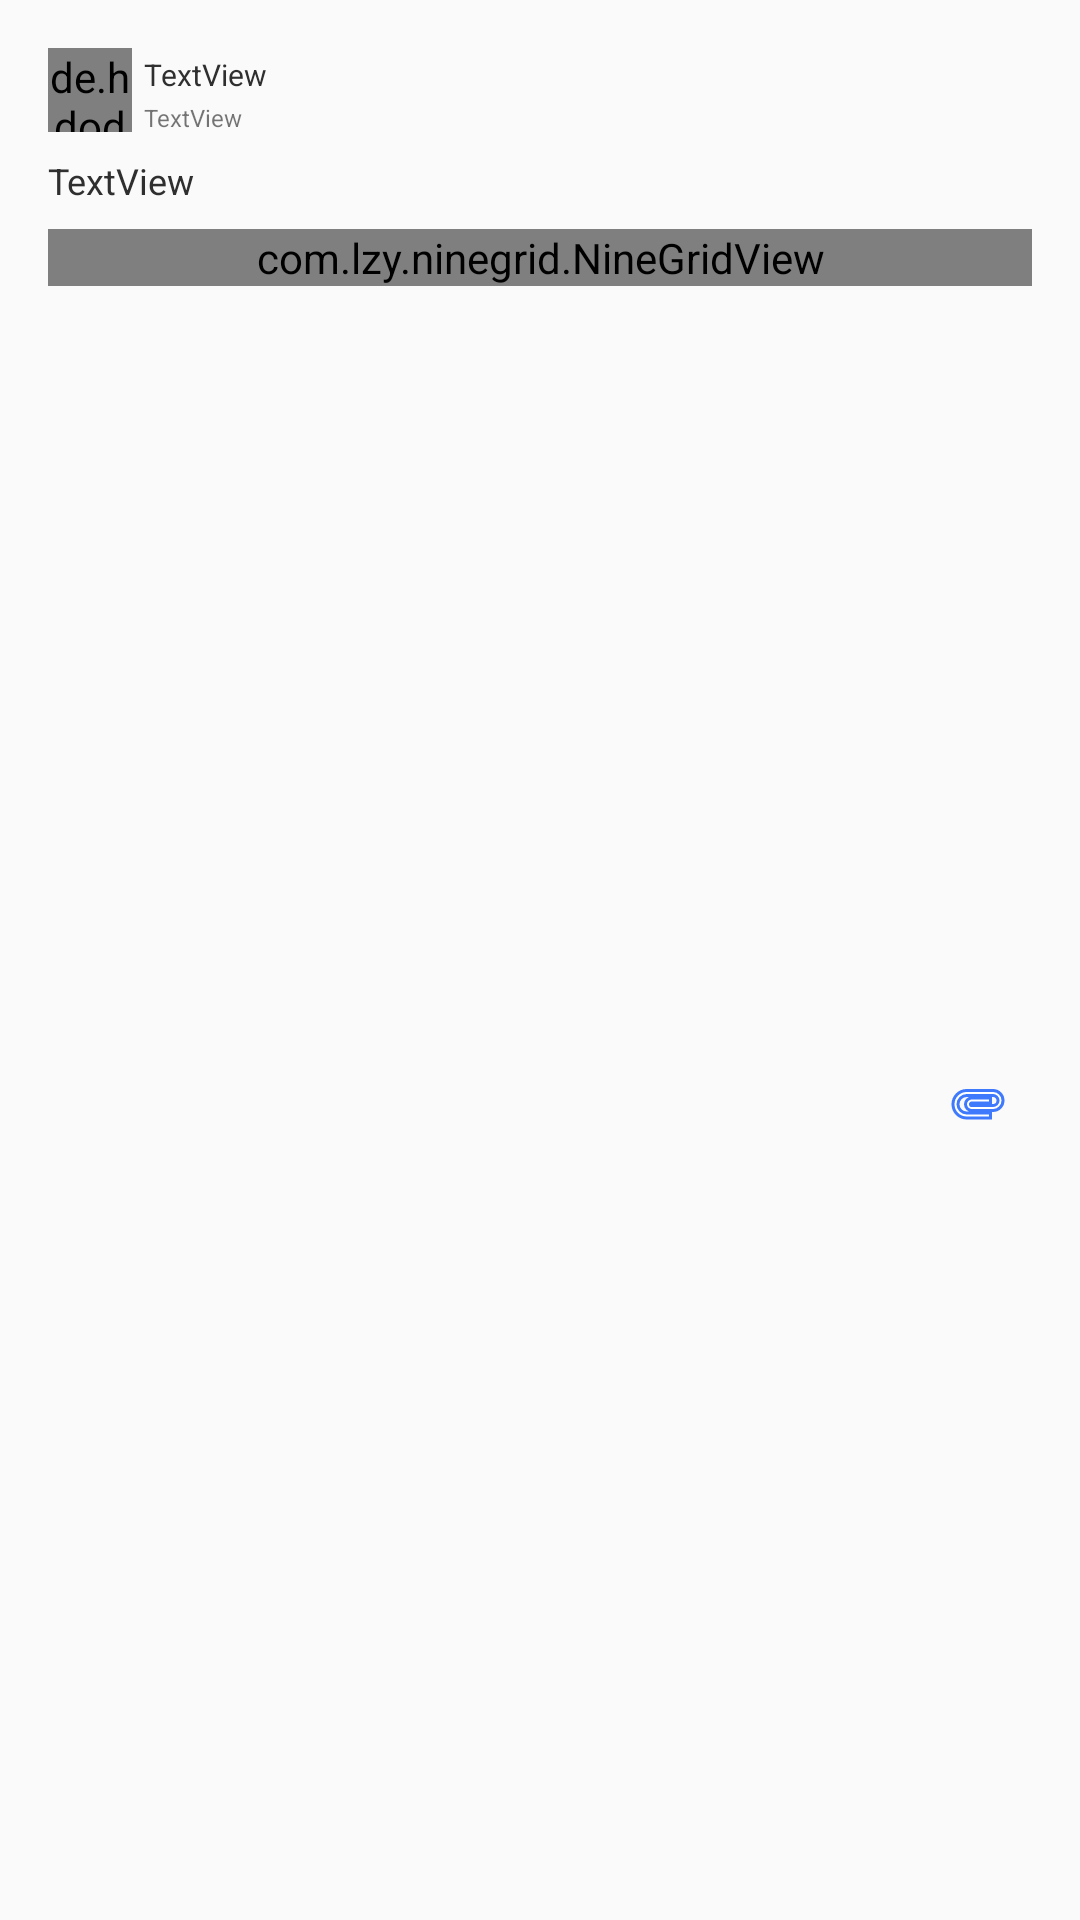

Locate icon controls on the screen. Image size 1080×1920, boxes as [x1=x1, y1=y1, x2=x2, y2=y2].
attachment: [x1=951, y1=1089, x2=1005, y2=1120]
